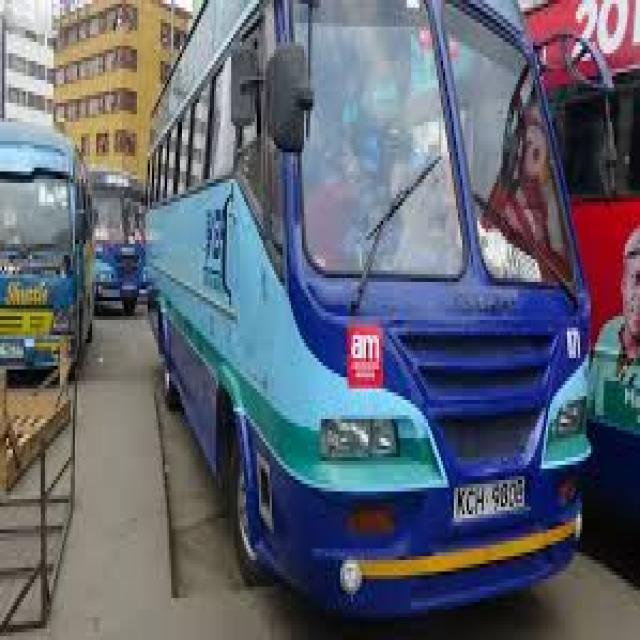bus: (132, 0, 618, 640)
